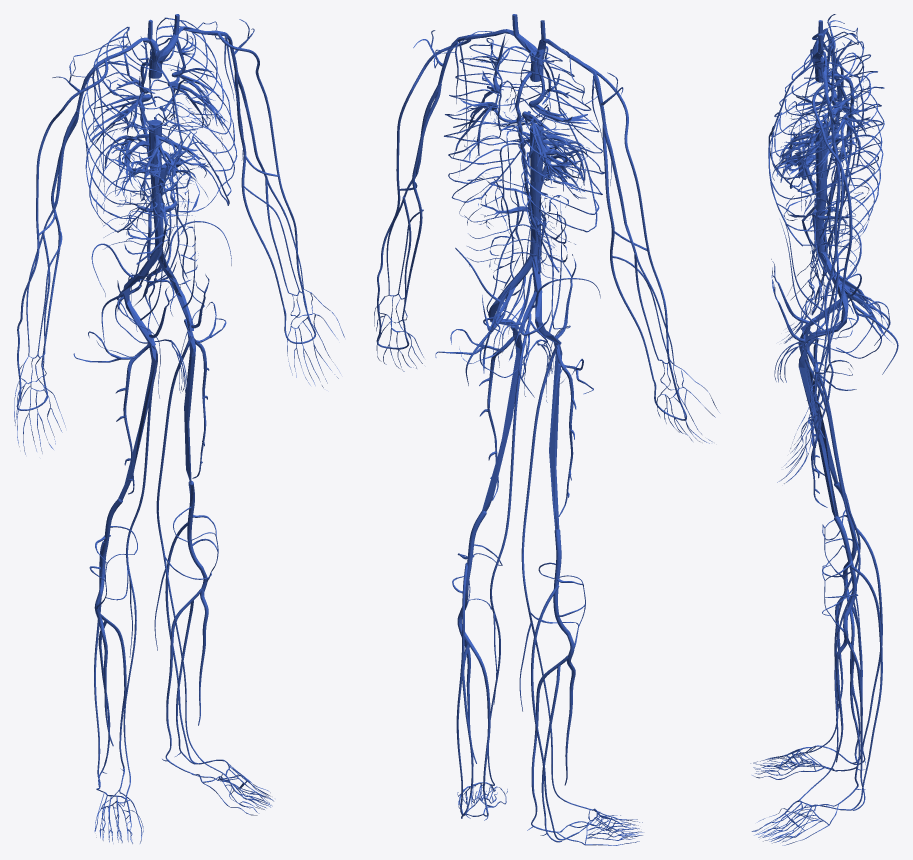
The model's file is veias-leve.glb.
3 views of the same model, side by side, from view 1: azimuth 30°, elevation 25°; view 2: azimuth 150°, elevation 25°; view 3: azimuth 270°, elevation 25° (orthographic). The views are drawn at different scales.
Parts seen in each view (by area): view 1: FMA70839, FMA21380, FMA21379, FMA13325, FMA10951, FMA21189, FMA21188, FMA13326, FMA22910, FMA15415, FMA22909, FMA44337 (+2 smaller); view 2: FMA70839, FMA21379, FMA21380, FMA21188, FMA21189, FMA10951, FMA13325, FMA13326, FMA22909, FMA44334, FMA22910, FMA44335 (+1 smaller); view 3: FMA70839, FMA21380, FMA13326, FMA10951, FMA21189, FMA21379, FMA44335, FMA22910, FMA44337, FMA70919, FMA44334, FMA21188 (+16 smaller).
Part boxes in pixels (x1=…): FMA70839: x1=81, y1=17, x2=237, y2=231; FMA21380: x1=154, y1=335, x2=222, y2=773; FMA21379: x1=123, y1=345, x2=157, y2=797; FMA13325: x1=17, y1=59, x2=108, y2=379; FMA10951: x1=149, y1=120, x2=163, y2=251; FMA21189: x1=184, y1=330, x2=195, y2=483; FMA21188: x1=118, y1=339, x2=156, y2=500; FMA13326: x1=217, y1=31, x2=307, y2=309; FMA22910: x1=234, y1=72, x2=284, y2=306; FMA15415: x1=125, y1=132, x2=205, y2=201; FMA22909: x1=41, y1=111, x2=79, y2=365; FMA44337: x1=187, y1=532, x2=218, y2=725; FMA70839: x1=444, y1=38, x2=604, y2=244; FMA21379: x1=519, y1=348, x2=590, y2=809; FMA21380: x1=487, y1=340, x2=522, y2=785; FMA21188: x1=549, y1=343, x2=562, y2=529; FMA21189: x1=481, y1=331, x2=520, y2=511; FMA10951: x1=529, y1=124, x2=543, y2=259; FMA13325: x1=585, y1=63, x2=677, y2=393; FMA13326: x1=377, y1=35, x2=471, y2=321; FMA22909: x1=602, y1=124, x2=653, y2=380; FMA44334: x1=531, y1=585, x2=579, y2=840; FMA22910: x1=402, y1=84, x2=441, y2=319; FMA44335: x1=456, y1=562, x2=467, y2=816; FMA70839: x1=770, y1=31, x2=884, y2=248; FMA21380: x1=799, y1=348, x2=860, y2=800; FMA13326: x1=812, y1=83, x2=843, y2=419; FMA10951: x1=813, y1=123, x2=828, y2=253; FMA21189: x1=798, y1=343, x2=838, y2=517; FMA21379: x1=799, y1=330, x2=860, y2=753; FMA44335: x1=839, y1=566, x2=882, y2=810; FMA22910: x1=822, y1=143, x2=852, y2=400; FMA44337: x1=822, y1=565, x2=848, y2=762; FMA70919: x1=751, y1=761, x2=829, y2=845; FMA44334: x1=839, y1=528, x2=882, y2=763; FMA21188: x1=798, y1=326, x2=838, y2=484.
Size of the model in its own units: 0.6451 by 1.46 by 0.2534.
